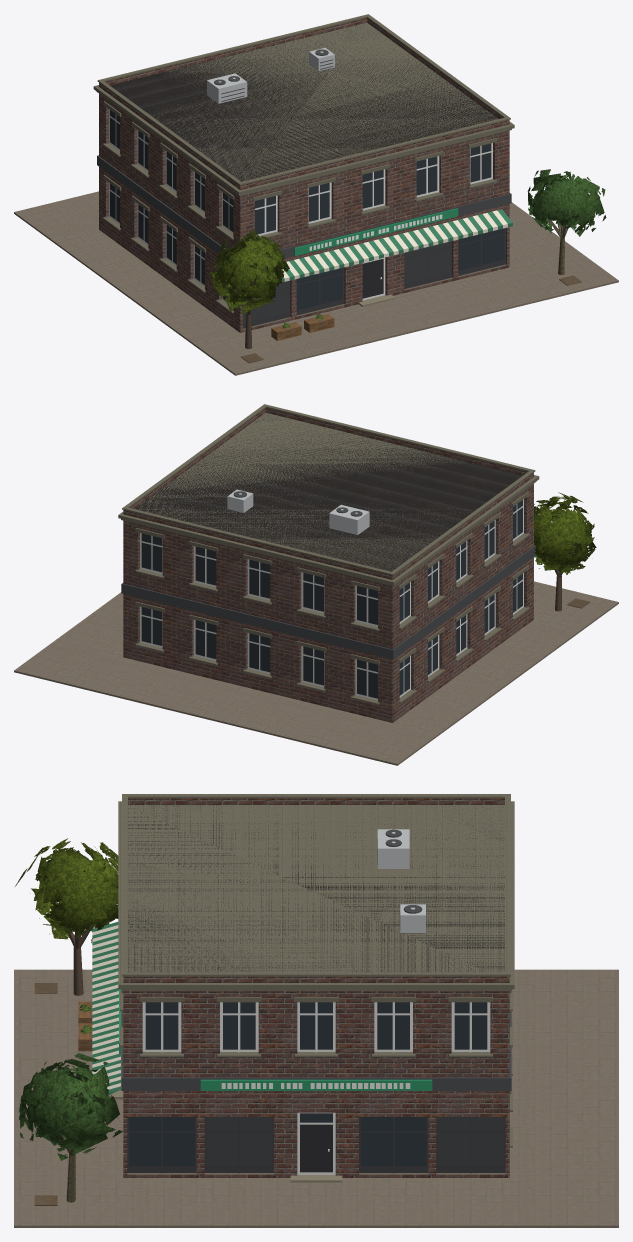
The model's file is corner_store.glb.
3 views of the same model, one above another, from view 1: azimuth 30°, elevation 25°; view 2: azimuth 150°, elevation 25°; view 3: azimuth 270°, elevation 25° (orthographic). The views are drawn at different scales.
Parts seen in each view (by area): view 1: corner_store_body, corner_store_foliage; view 2: corner_store_body, corner_store_foliage; view 3: corner_store_body, corner_store_foliage.
Boxes of the visible parts, bbox=[...] form: corner_store_body: bbox=[14, 14, 618, 375]; corner_store_foliage: bbox=[209, 169, 606, 328]; corner_store_body: bbox=[14, 404, 618, 765]; corner_store_foliage: bbox=[534, 492, 596, 574]; corner_store_body: bbox=[14, 794, 618, 1227]; corner_store_foliage: bbox=[15, 838, 122, 1160].
Size of the model in its own units: 0.94 by 0.38 by 0.94.
26 materials, 13 textured.
